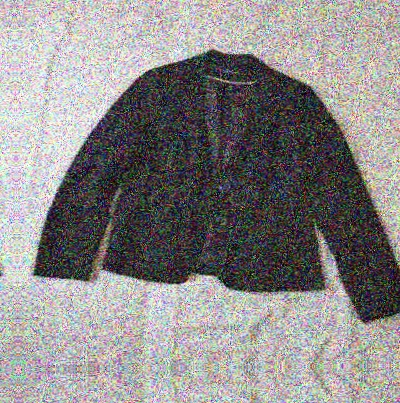Blazer: (37, 34, 400, 338), (41, 398, 400, 403)
